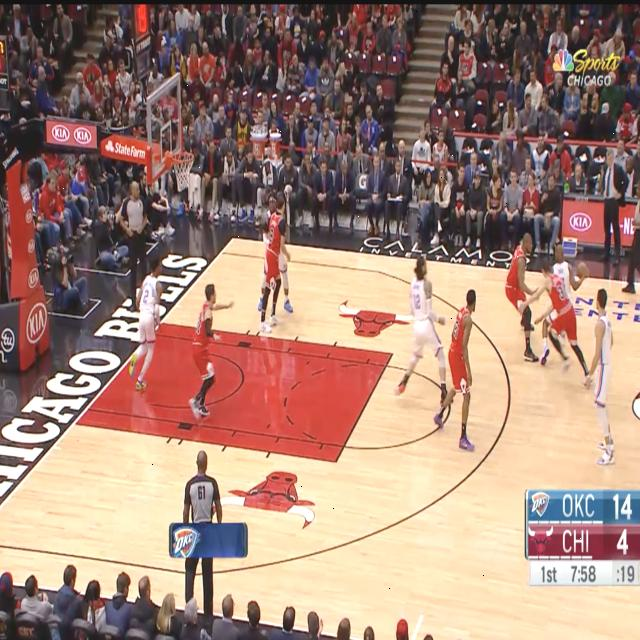no foul: (374, 246, 489, 452), (507, 230, 588, 390), (245, 194, 303, 336)
